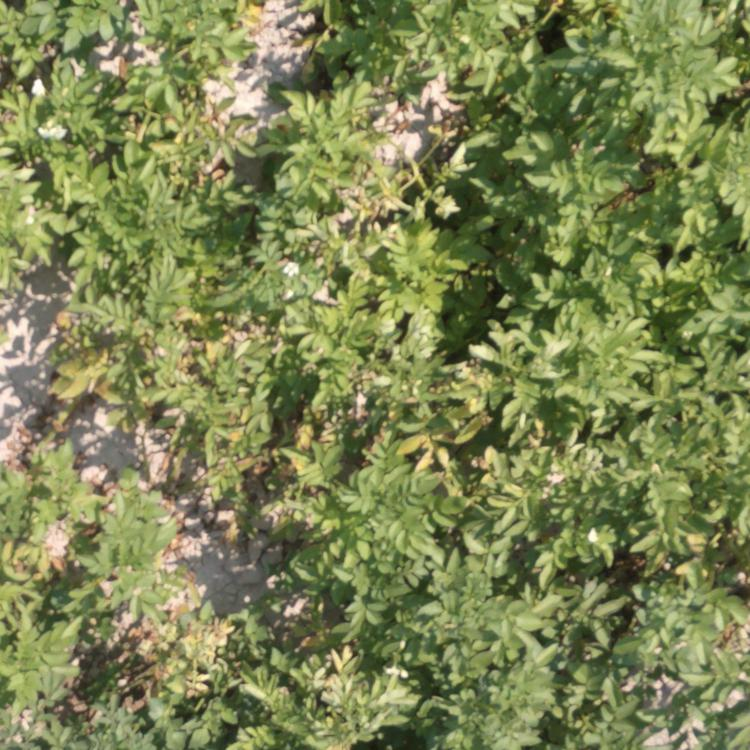healthy: (538, 6, 746, 530), (228, 539, 744, 750), (295, 7, 518, 346), (1, 1, 142, 219), (233, 242, 290, 335)
stressed: (3, 421, 216, 748), (229, 353, 541, 524), (146, 1, 284, 231), (47, 233, 217, 414)
